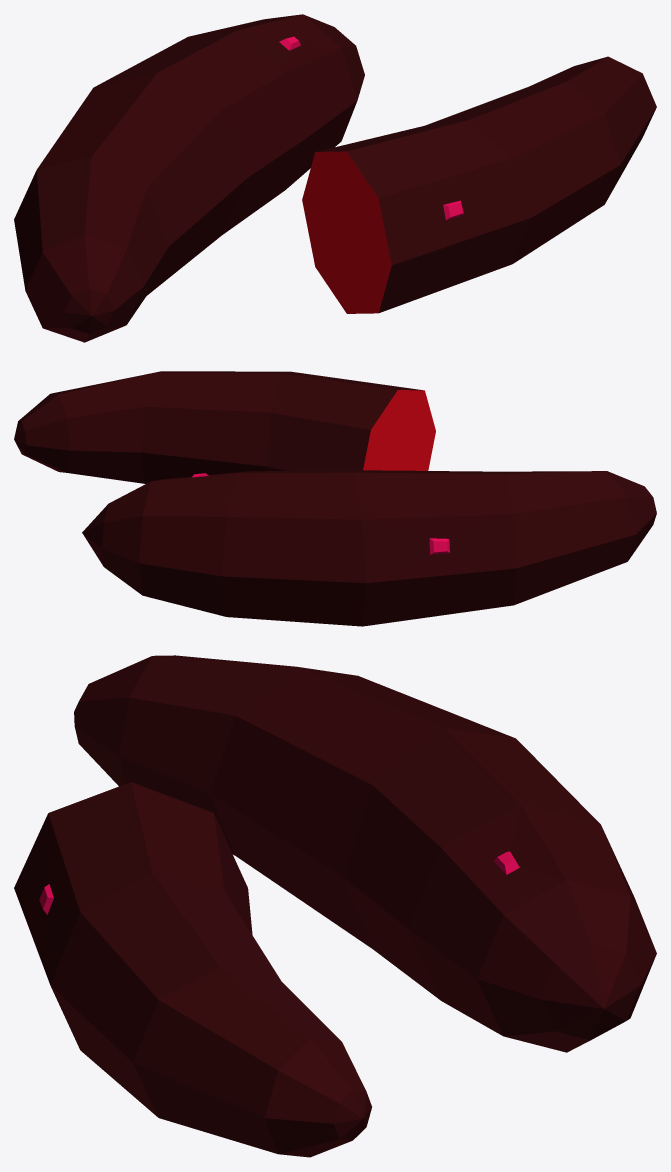
File: SweetPotato_01.fbx
3 views of the same model, one above another, from view 1: azimuth 30°, elevation 25°; view 2: azimuth 150°, elevation 25°; view 3: azimuth 270°, elevation 25° (orthographic). The views are drawn at different scales.
Visible parts, largest first — view 1: SweetPotato_01; view 2: SweetPotato_01; view 3: SweetPotato_01.
Boxes of the visible parts, bbox=[...] form: SweetPotato_01: bbox=[14, 14, 656, 342]; SweetPotato_01: bbox=[14, 371, 656, 626]; SweetPotato_01: bbox=[14, 655, 656, 1157].
Bounding box in the file's own units: 13.71 × 3.47 × 8.72.
